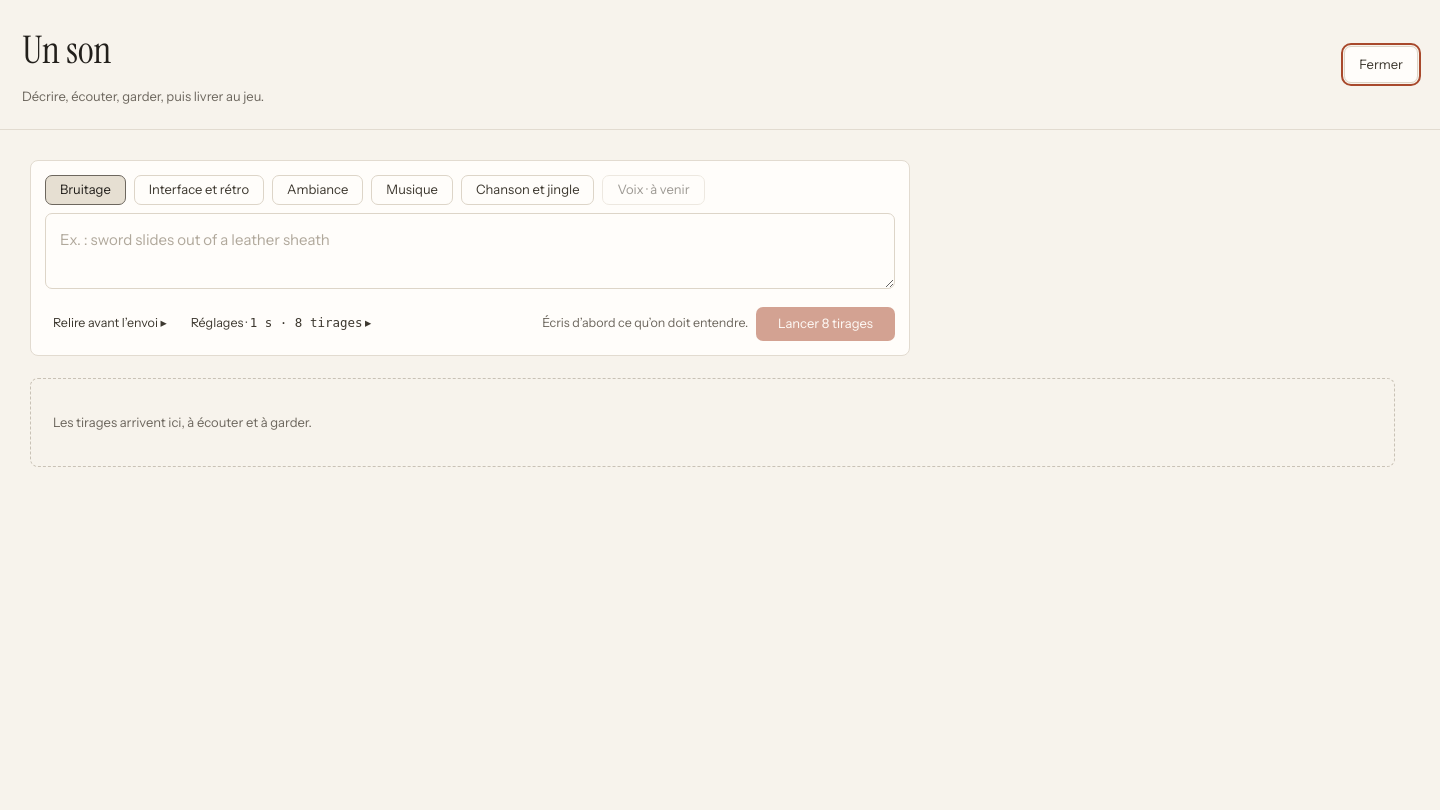
ce qui sera refusé n’est pas proposé : une erreur de relecture grise le bouton avec sa raison
In the text box named "Ce qu’on doit entendre": (470, 251) [45,212,895,289], type "Door creak"
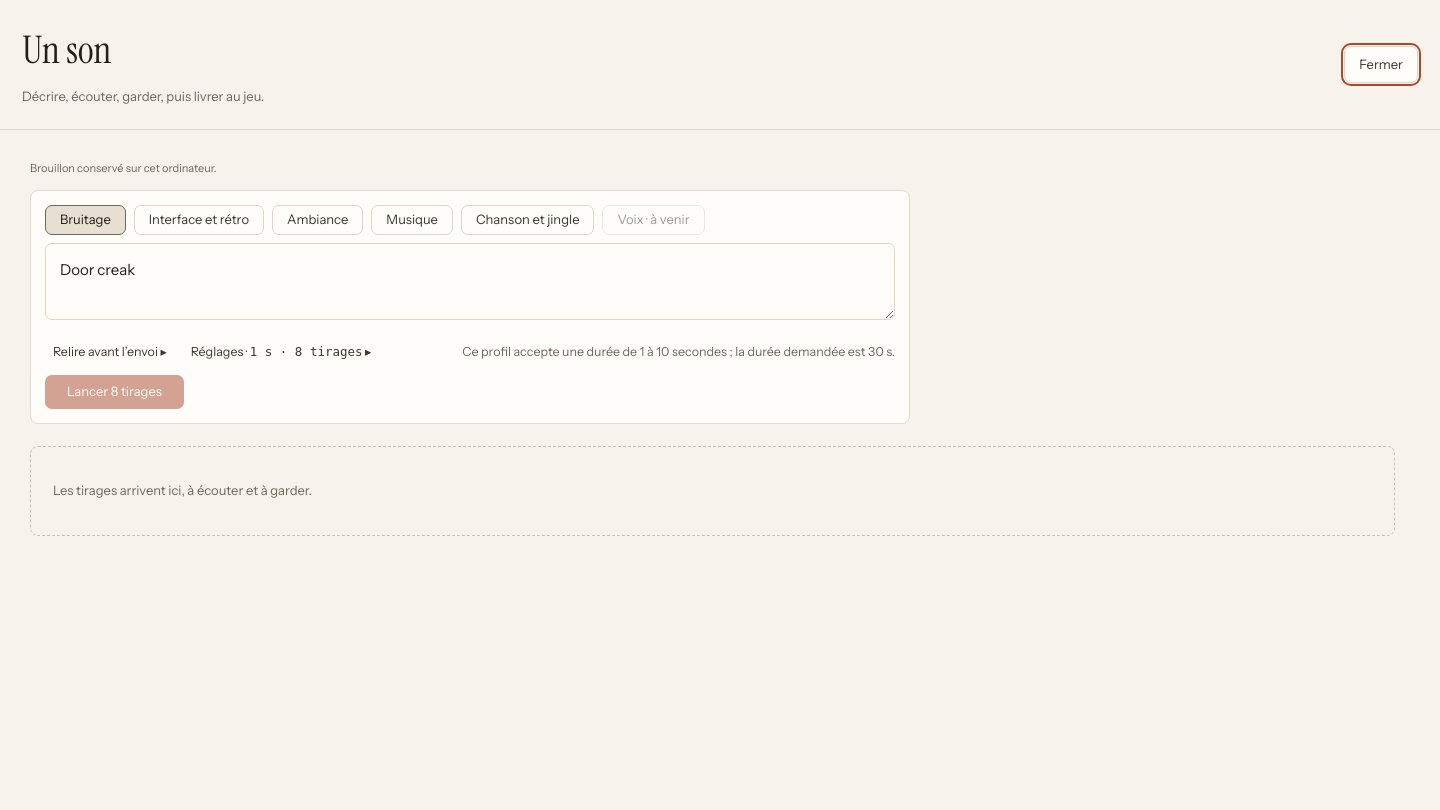
Expected: the button "Lancer 8 tirages" is disabled, [45,375,184,409]
Now the text "Ce profil accepte une durée de 1 à 10 secondes ; la durée demandée est 30 s." is shown, box [462,343,895,361]
